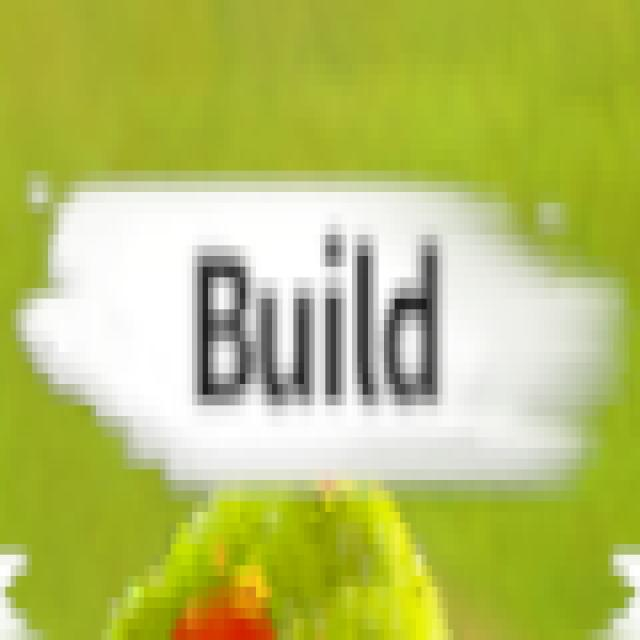build: (184, 204, 459, 442)
